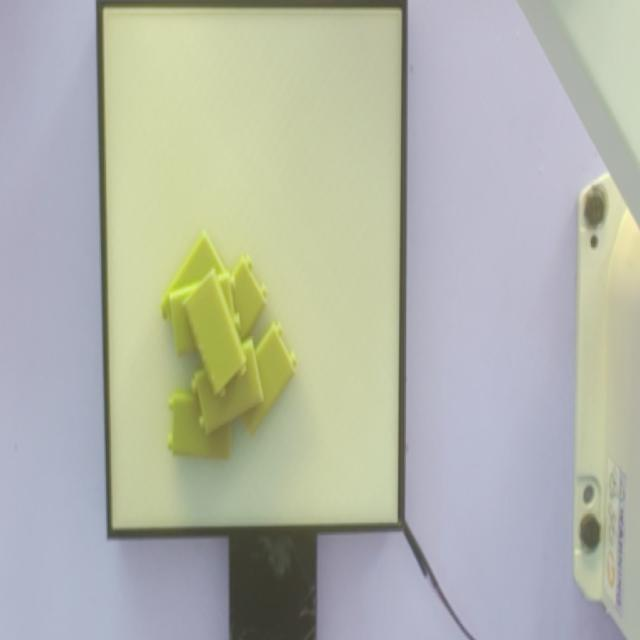bateria: (181, 268, 248, 400)
mesa: (96, 0, 408, 538)
